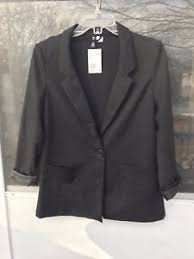F_W_suit jacket: (9, 21, 189, 228)
